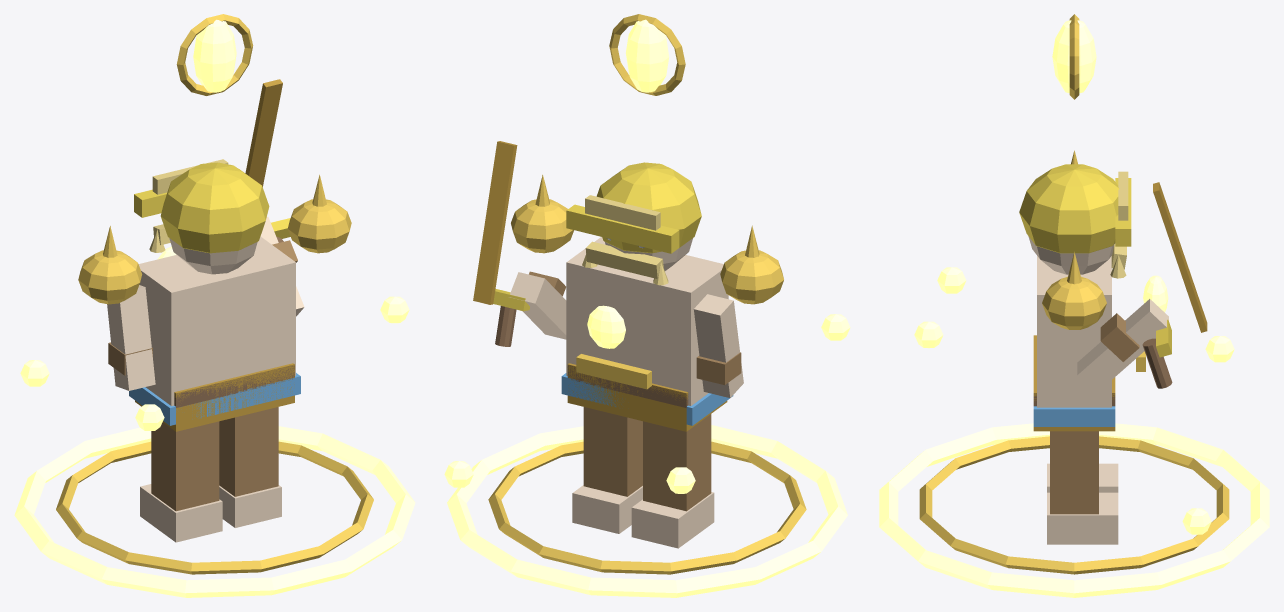
File: hero_barbarian_single.glb
The picture shows the model from 3 angles, left to right: view 1: azimuth 30°, elevation 25°; view 2: azimuth 150°, elevation 25°; view 3: azimuth 270°, elevation 25°; orthographic projection.
Visible parts, largest first — view 1: hero_barbarian_single; view 2: hero_barbarian_single; view 3: hero_barbarian_single.
Boxes of the visible parts, bbox=[...] form: hero_barbarian_single: bbox=[14, 14, 415, 597]; hero_barbarian_single: bbox=[444, 14, 850, 597]; hero_barbarian_single: bbox=[879, 14, 1269, 597].
Bounding box in the file's own units: 2.76 × 3.8 × 2.69.
